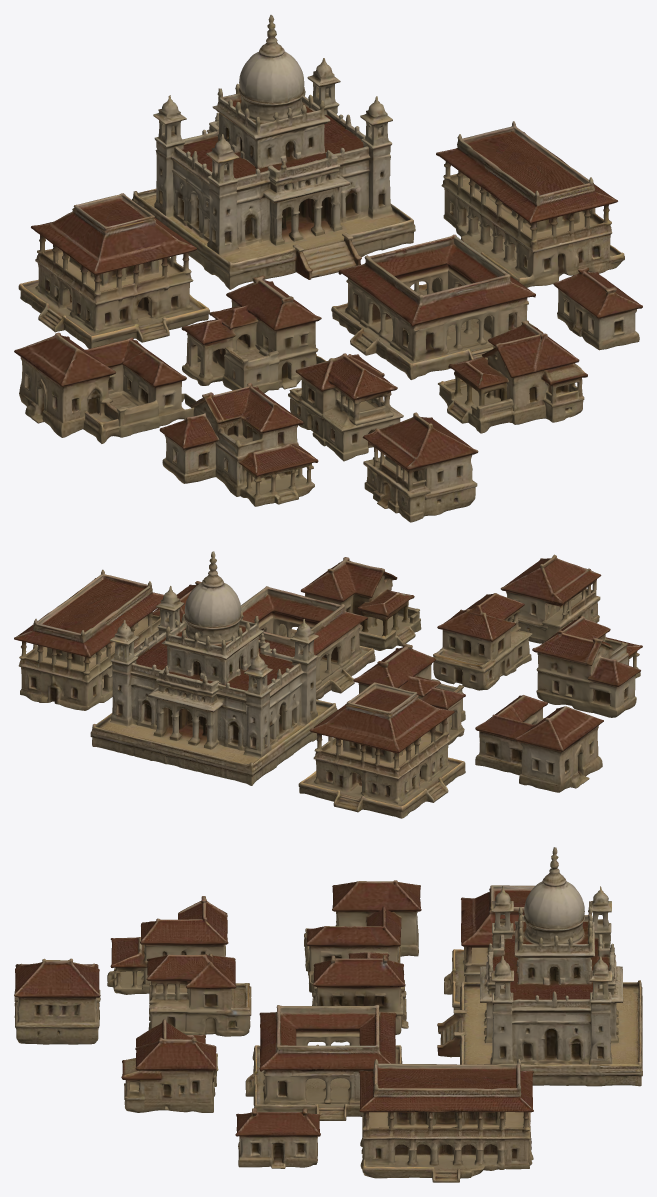
The model's file is Enlightenment Village (South Asian).fbx.
3 views of the same model, one above another, from view 1: azimuth 30°, elevation 25°; view 2: azimuth 150°, elevation 25°; view 3: azimuth 270°, elevation 25° (orthographic). The views are drawn at different scales.
Visible parts, largest first — view 1: tripo_node_69150fd5; view 2: tripo_node_69150fd5; view 3: tripo_node_69150fd5.
Boxes of the visible parts, x1=… form: tripo_node_69150fd5: x1=14, y1=15, x2=642, y2=522; tripo_node_69150fd5: x1=14, y1=551, x2=642, y2=818; tripo_node_69150fd5: x1=14, y1=847, x2=642, y2=1182.
Bounding box in the file's own units: 1 × 0.417 × 0.9993.
